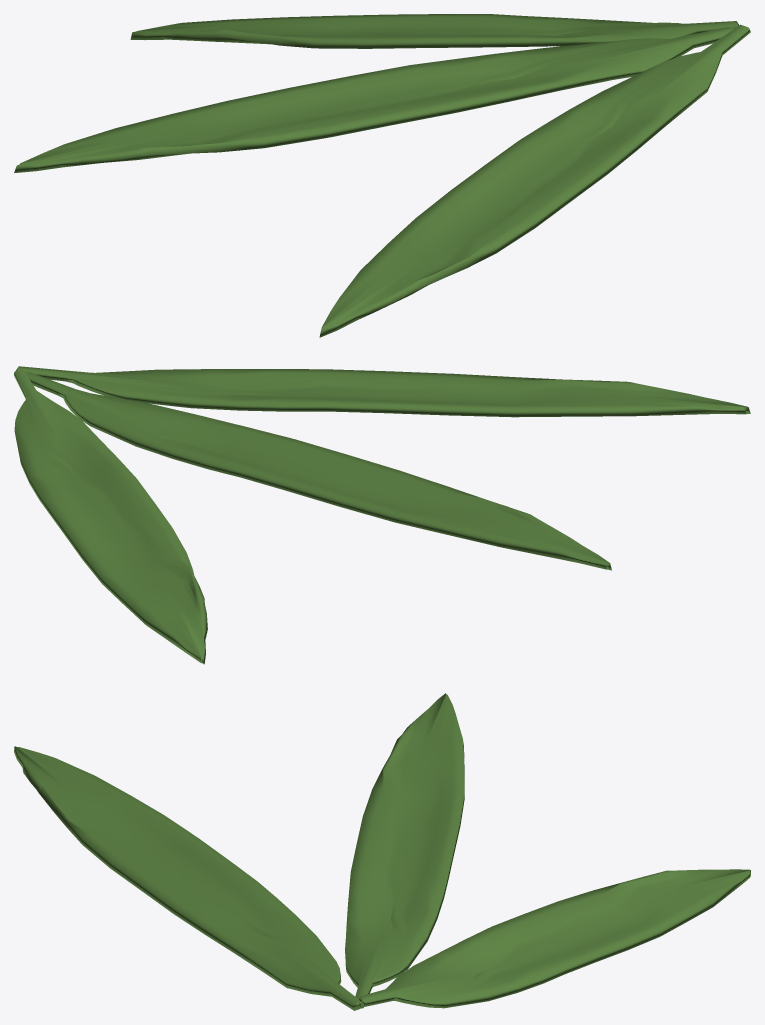
The model's file is leafgroup.obj.
3 renders of one model, top to bottom at view 1: azimuth 30°, elevation 25°; view 2: azimuth 150°, elevation 25°; view 3: azimuth 270°, elevation 25°, orthographic. The views are drawn at different scales.
Parts seen in each view (by area): view 1: pPlane5; view 2: pPlane5; view 3: pPlane5.
Boxes of the visible parts, box(x1,y1,x2,y2) form: pPlane5: box(14, 14, 750, 337); pPlane5: box(14, 366, 750, 664); pPlane5: box(14, 693, 750, 1010).
Size of the model in its own units: 2.75 by 0.2624 by 2.68.
